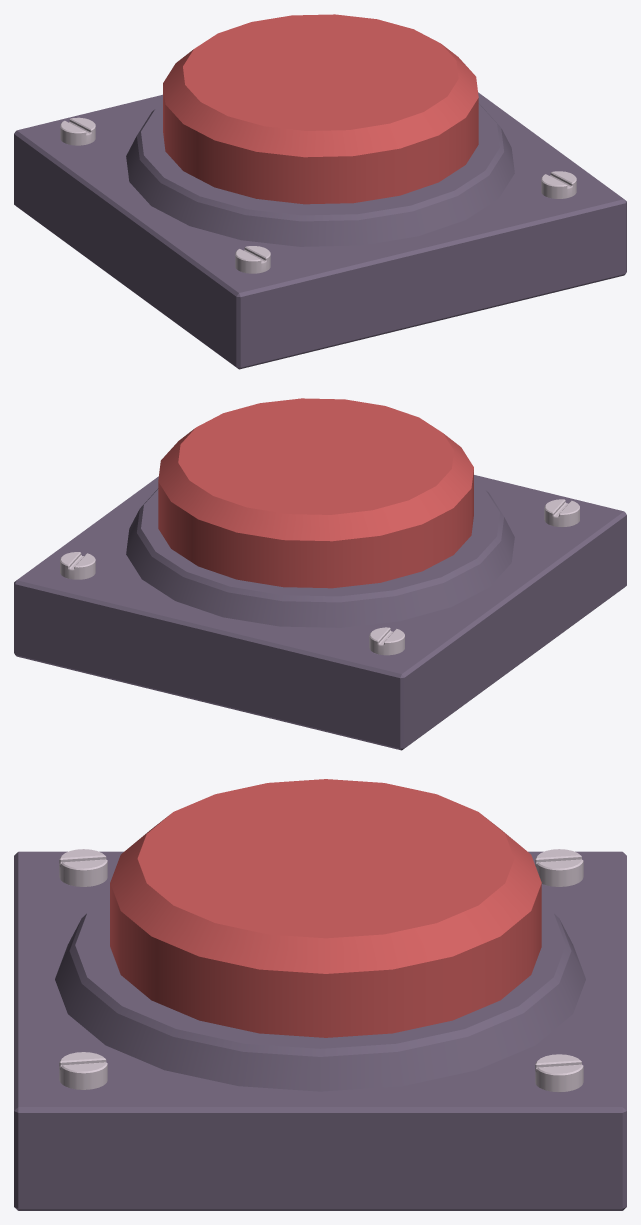
Rendered from button.fbx.
3 views of the same model, one above another, from view 1: azimuth 30°, elevation 25°; view 2: azimuth 150°, elevation 25°; view 3: azimuth 270°, elevation 25° (orthographic). The views are drawn at different scales.
Visible parts, largest first — view 1: pCube1, pCylinder1, pPipe1, pCylinder2, pCylinder4, pCylinder3; view 2: pCube1, pCylinder1, pPipe1, pCylinder4, pCylinder3, pCylinder5; view 3: pCube1, pCylinder1, pPipe1, pCylinder3, pCylinder5, pCylinder2, pCylinder4.
Boxes of the visible parts, x1,y1,x2,y2 form: pCube1: (14,92,626,369); pCylinder1: (163,14,478,204); pPipe1: (126,103,514,246); pCylinder2: (541,171,576,198); pCylinder4: (60,117,95,145); pCylinder3: (235,246,270,273); pCube1: (14,475,626,750); pCylinder1: (158,398,473,588); pPipe1: (126,482,514,627); pCylinder4: (369,627,404,655); pCylinder3: (544,499,579,527); pCylinder5: (60,552,95,579); pCube1: (14,851,626,1210); pCylinder1: (110,779,541,1037); pPipe1: (55,894,585,1091); pCylinder3: (59,849,107,886); pCylinder5: (535,1054,583,1092); pCylinder2: (59,1052,107,1089); pCylinder4: (535,849,583,886).
Size of the model in its own units: 2.17 by 0.8822 by 2.17.
